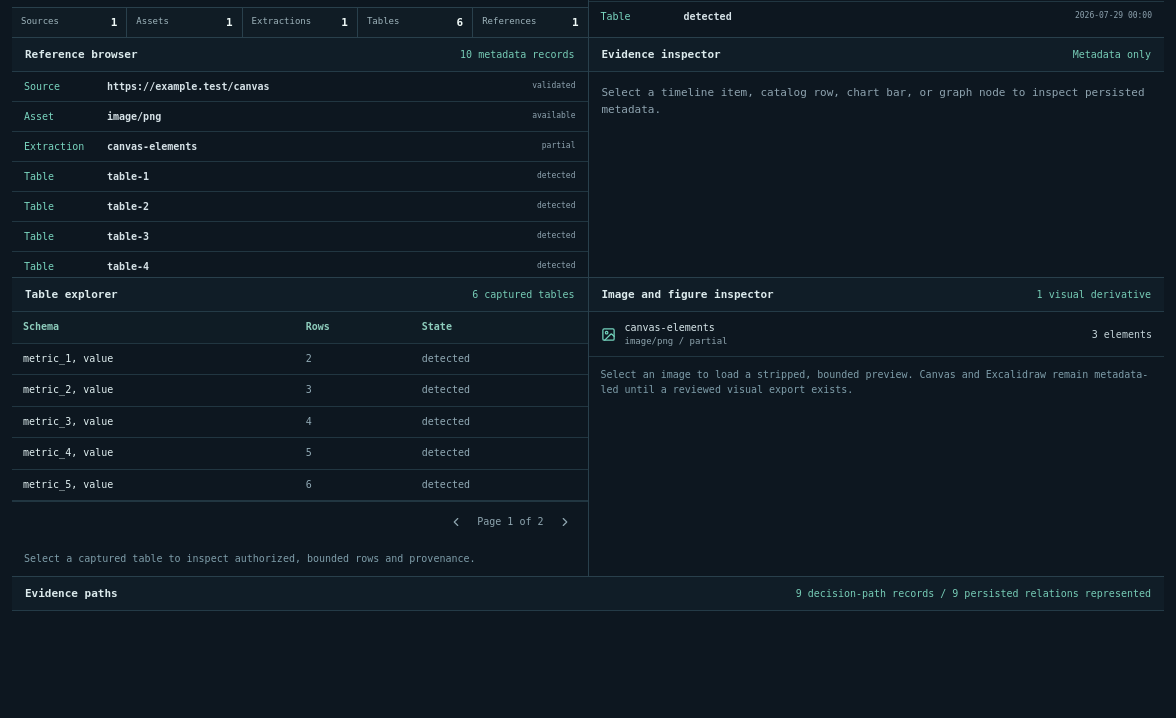
Scenario: EvidenceWorkspace graph projection › opens an authorized, bounded table-row preview with its derivative provenance
(page scrolled)
Step 1. Click the button "metric_1, value" → (68, 358), box 23,352 -> 284,366
(page scrolled)
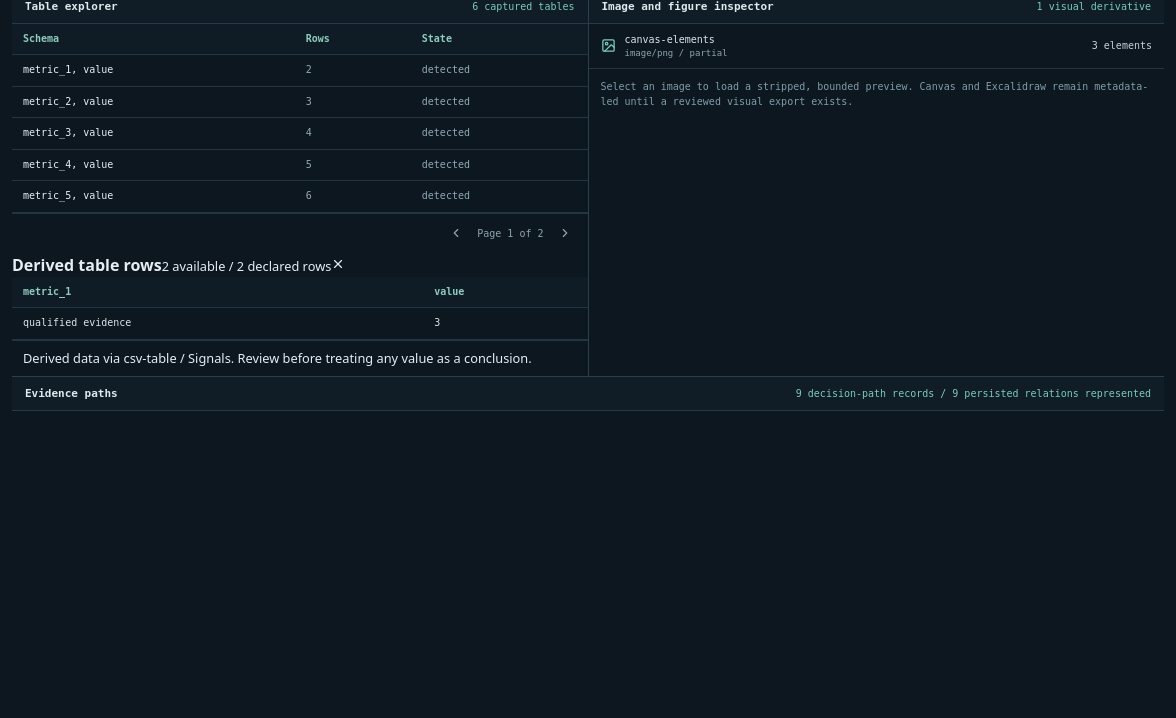
Expected: the text "Derived table rows" is shown, 12,254 -> 162,276
Expected: the text "qualified evidence" is shown, 12,308 -> 423,339
Expected: the text "Derived data via csv-table / Signals. Review before treating any value as a conclusion." is shown, 23,348 -> 576,368
